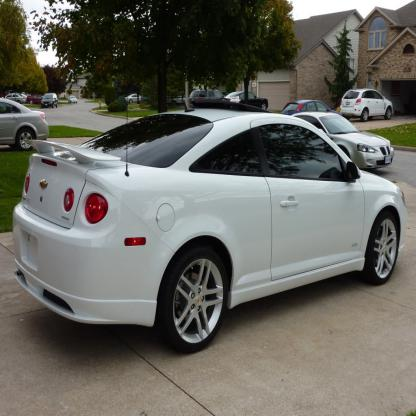car: (14, 107, 411, 355)
